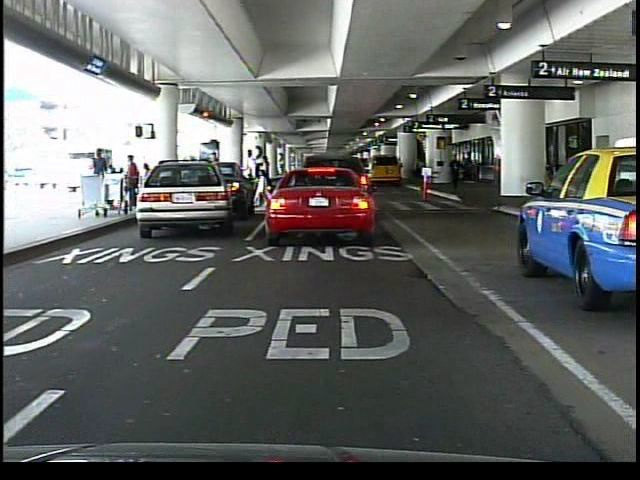person: (202, 150, 225, 205), (243, 148, 261, 217), (92, 148, 111, 206), (313, 153, 331, 203), (449, 153, 463, 190)
